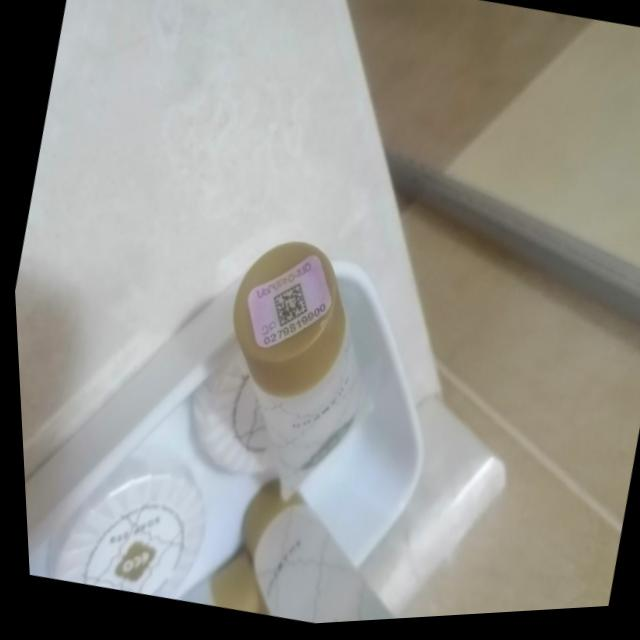datamatrix: (262, 281, 310, 336)
